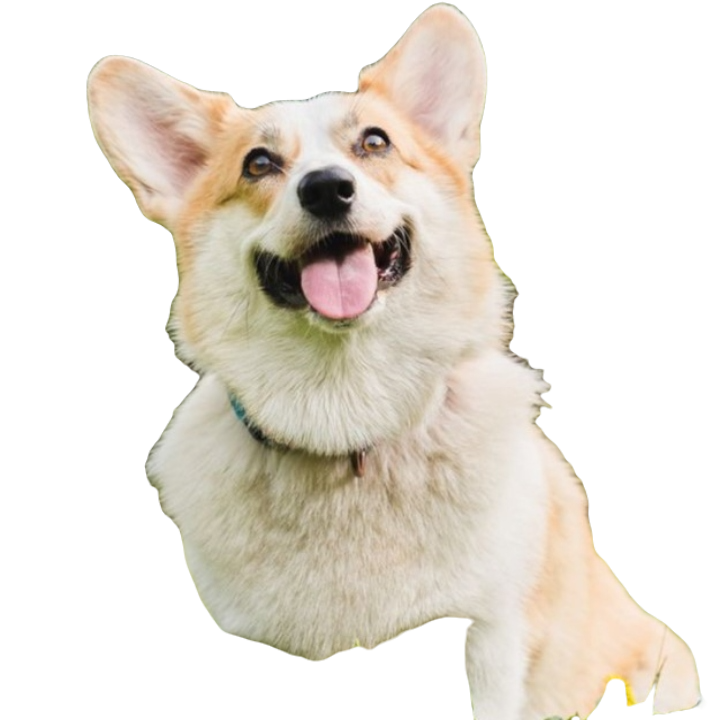Dog: (39, 1, 701, 719)
